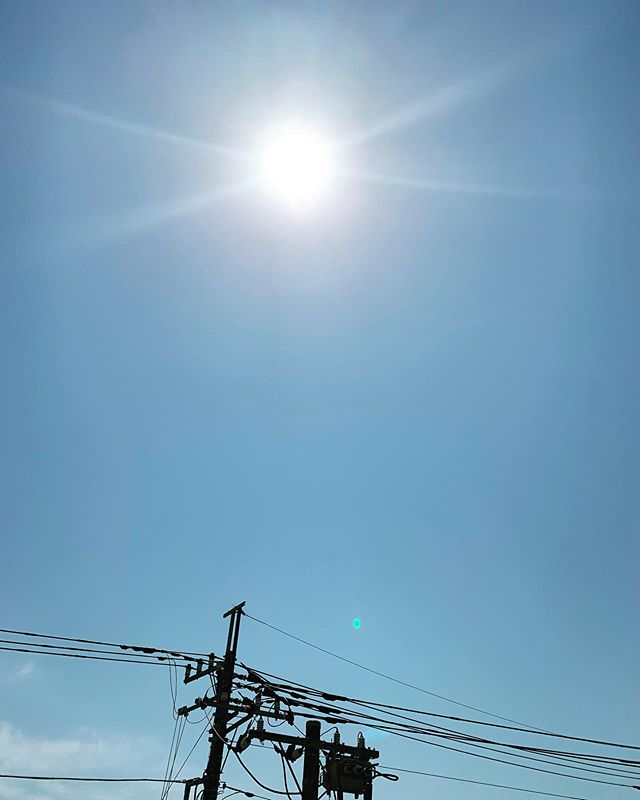power pole: (171, 600, 366, 800)
sky: (1, 1, 626, 793)
sun: (247, 102, 359, 228)
